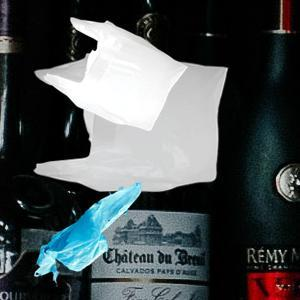plastic_bag: (28, 49, 233, 195), (37, 10, 188, 134)
